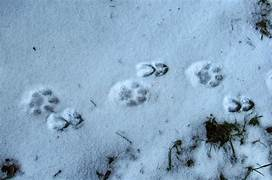lynx: (25, 88, 60, 119), (193, 61, 226, 89), (118, 82, 149, 111)
